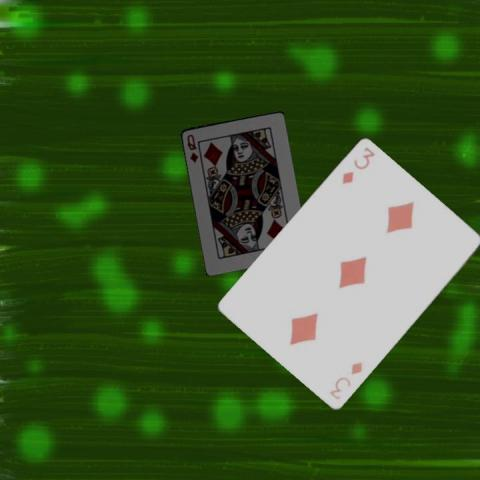3d: (338, 144, 376, 187), (327, 359, 364, 402)
Qd: (184, 132, 203, 166)
